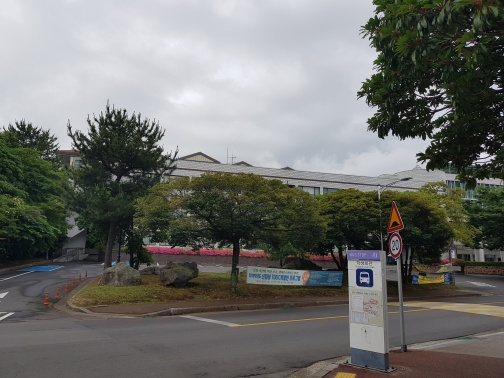Foreign Language Institute: (68, 140, 430, 266)
